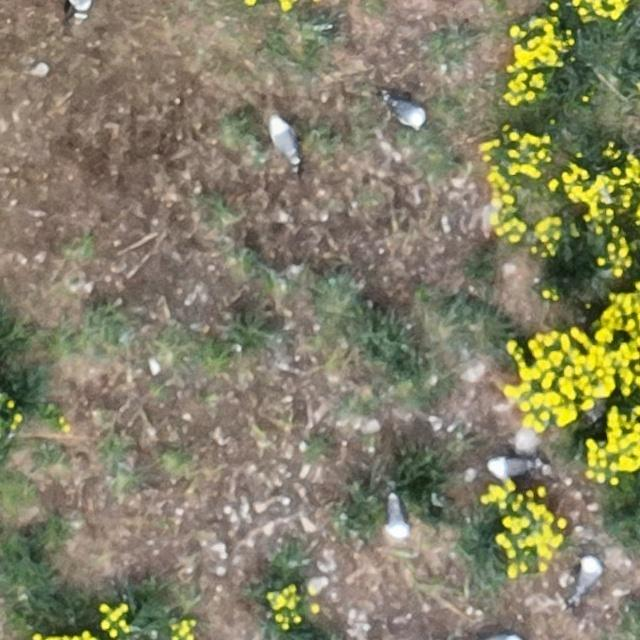umineko: (272, 120, 299, 163), (575, 557, 601, 599), (392, 100, 426, 128), (490, 458, 534, 478), (388, 497, 409, 538)
